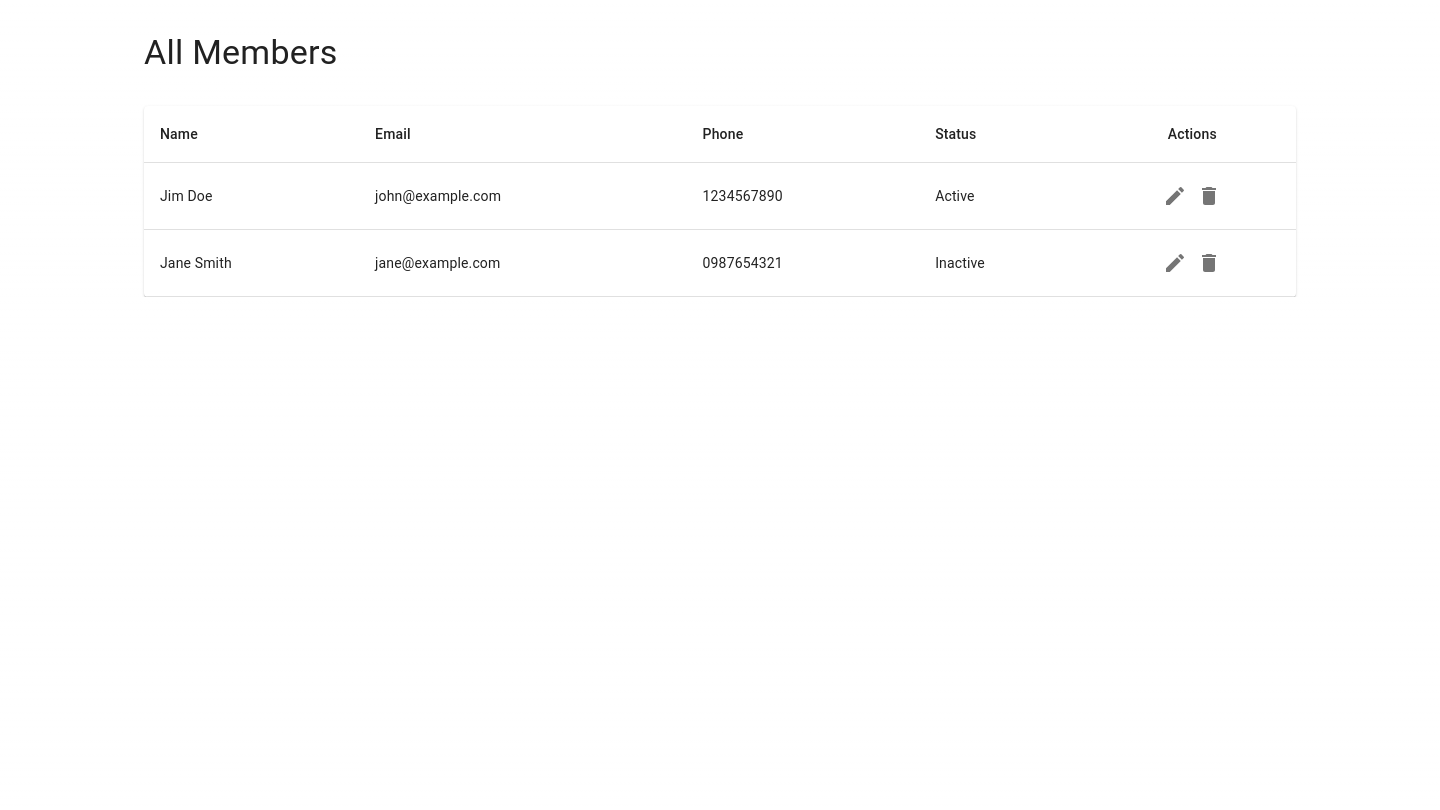
Test: ViewAllMembers › closes edit dialog when cancel button is clicked
The width and height of the screenshot is (1440, 810).
Step 1. Click the button named "Edit" in the row of "Jim Doe" → (1175, 196), box [1158,179,1192,213]
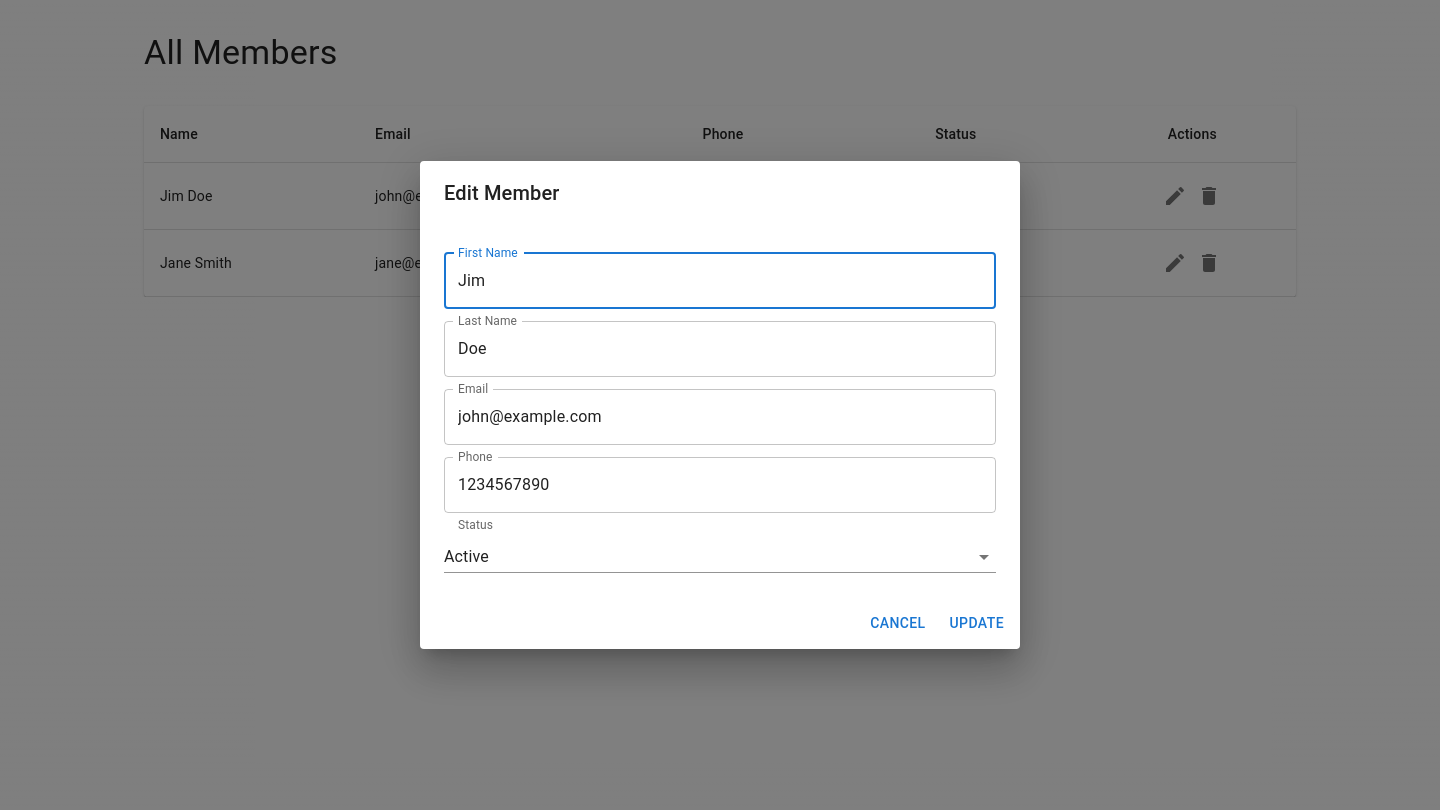
Step 2. Click the button "Cancel" → (898, 623), box [862,605,934,641]
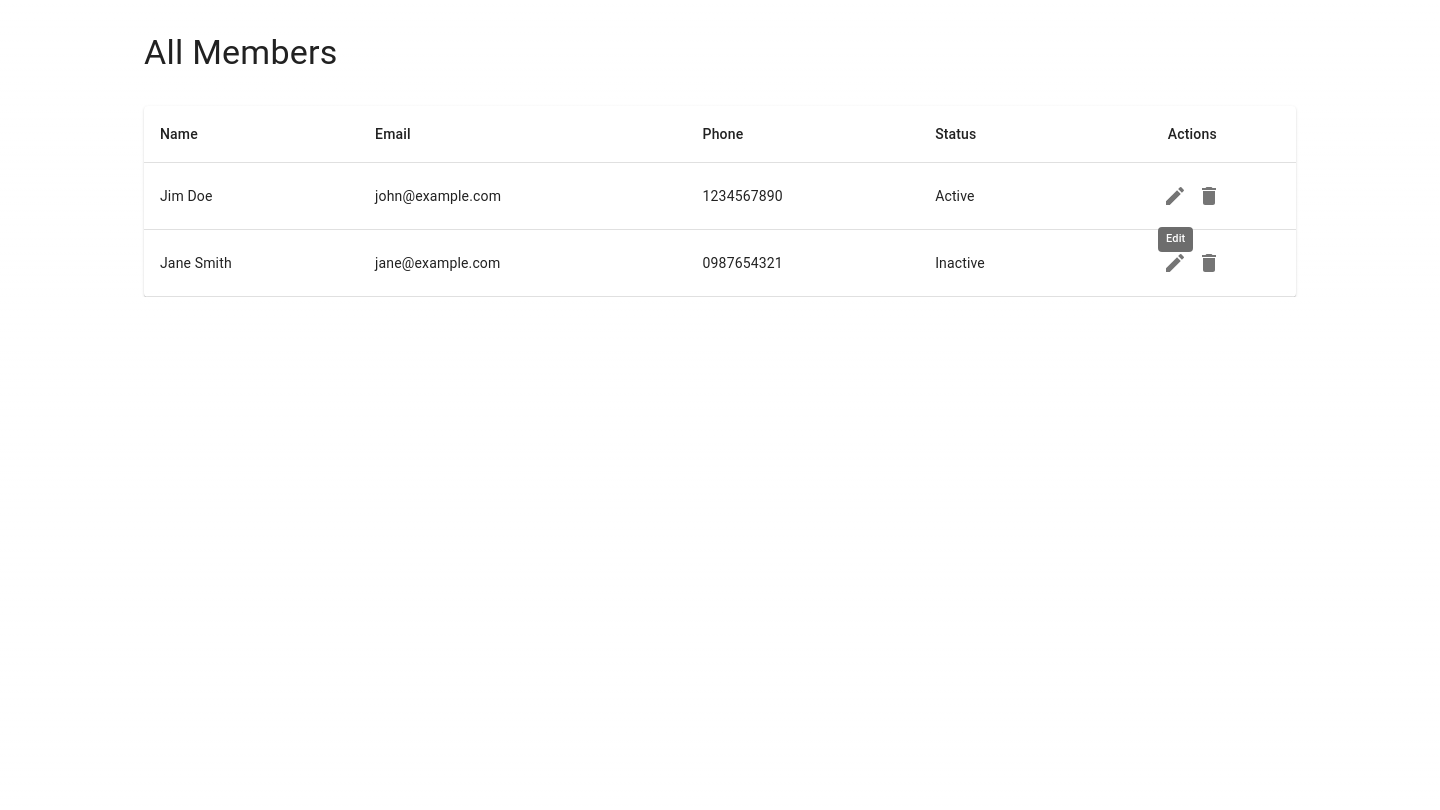
Result: the heading "Edit Member" is gone
